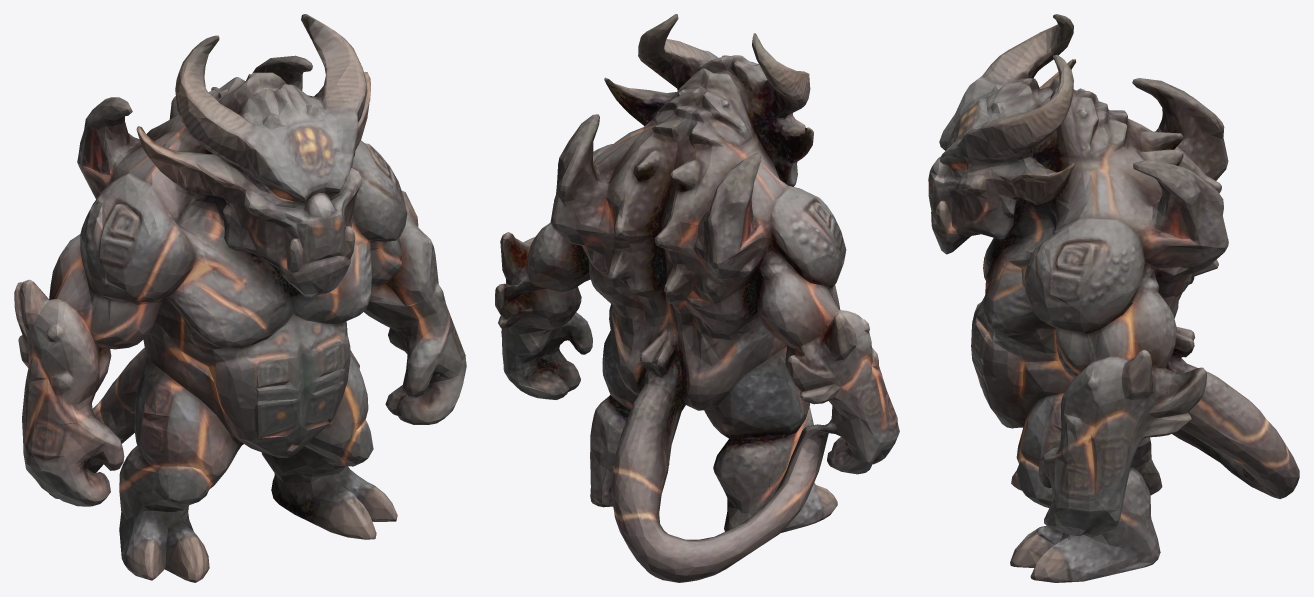
Rendered from slagImp.glb.
The picture shows the model from 3 angles, left to right: view 1: azimuth 30°, elevation 25°; view 2: azimuth 150°, elevation 25°; view 3: azimuth 270°, elevation 25°; orthographic projection. The views are drawn at different scales.
Parts seen in each view (by area): view 1: world; view 2: world; view 3: world.
Boxes of the visible parts, x1,y1,x2,y2 form: world: (14,14,466,582); world: (495,14,899,582); world: (928,14,1299,582).
Bounding box in the file's own units: 0.8677 × 0.9985 × 0.6812.
Materials: 1 (1 with a texture image).
